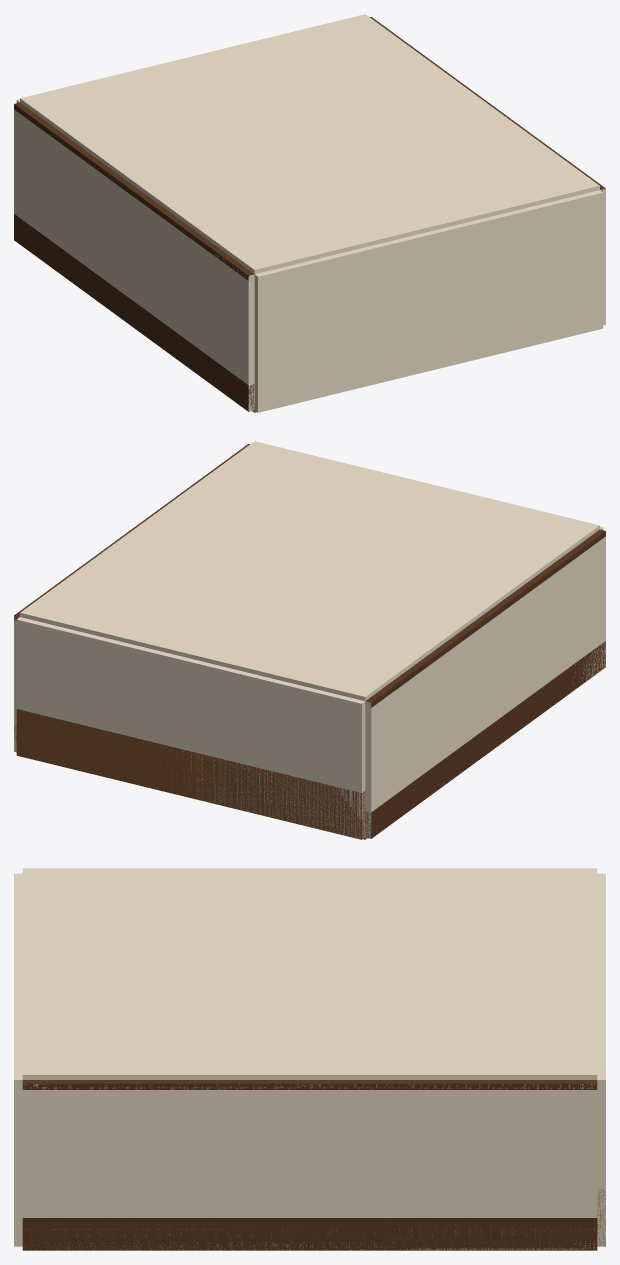
File: law_court.glb
3 renders of one model, top to bottom at view 1: azimuth 30°, elevation 25°; view 2: azimuth 150°, elevation 25°; view 3: azimuth 270°, elevation 25°, orthographic. The views are drawn at different scales.
Parts seen in each view (by area): view 1: LawCourt_body; view 2: LawCourt_body; view 3: LawCourt_body.
Part boxes in pixels (<box>): LawCourt_body: <box>14,14,605,412</box>; LawCourt_body: <box>14,441,605,839</box>; LawCourt_body: <box>14,868,605,1250</box>.
Bounding box in the file's own units: 17.6 × 6.72 × 20.6.
